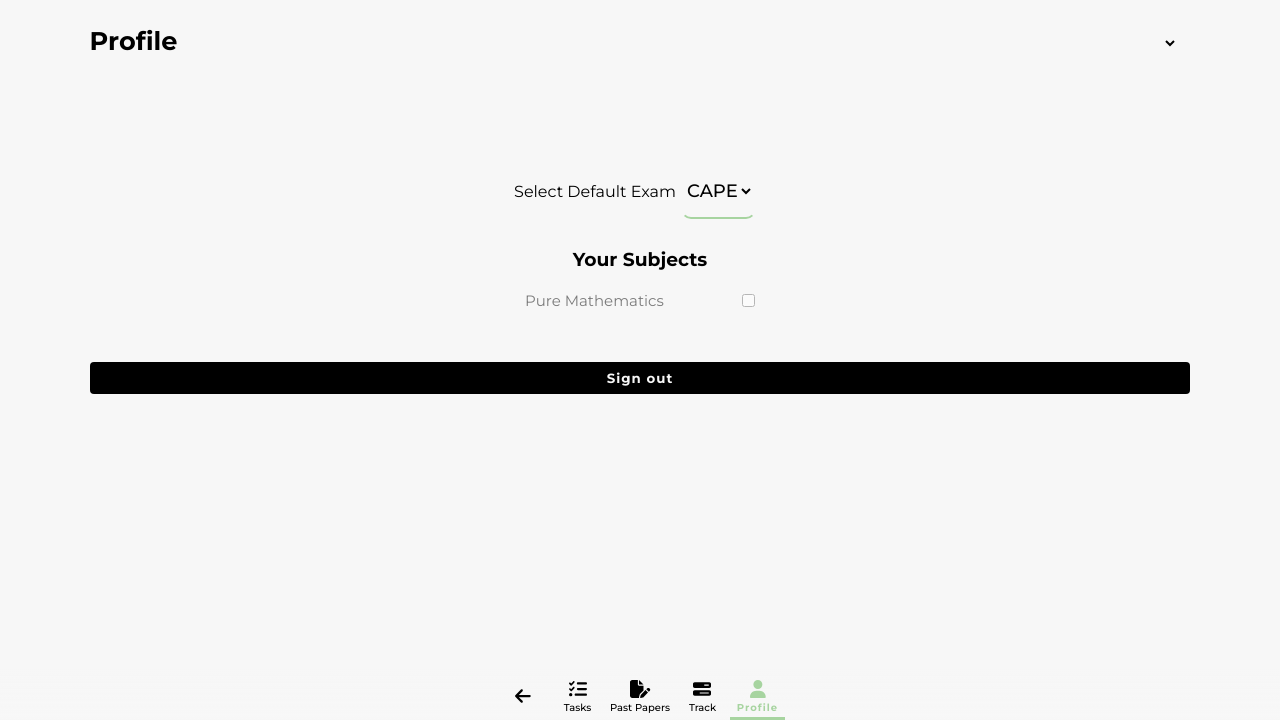
Profile (7, 9, 10) › CAPE lists the subjects from the data; choosing CSEC with none says "CSEC subjects coming soon"
The width and height of the screenshot is (1280, 720).
Expected: the text "Pure Mathematics" is shown, 525,291 -> 755,310
Select "CSEC" in the dropdown named "Default exam" at (718, 191), box 681,163 -> 756,219
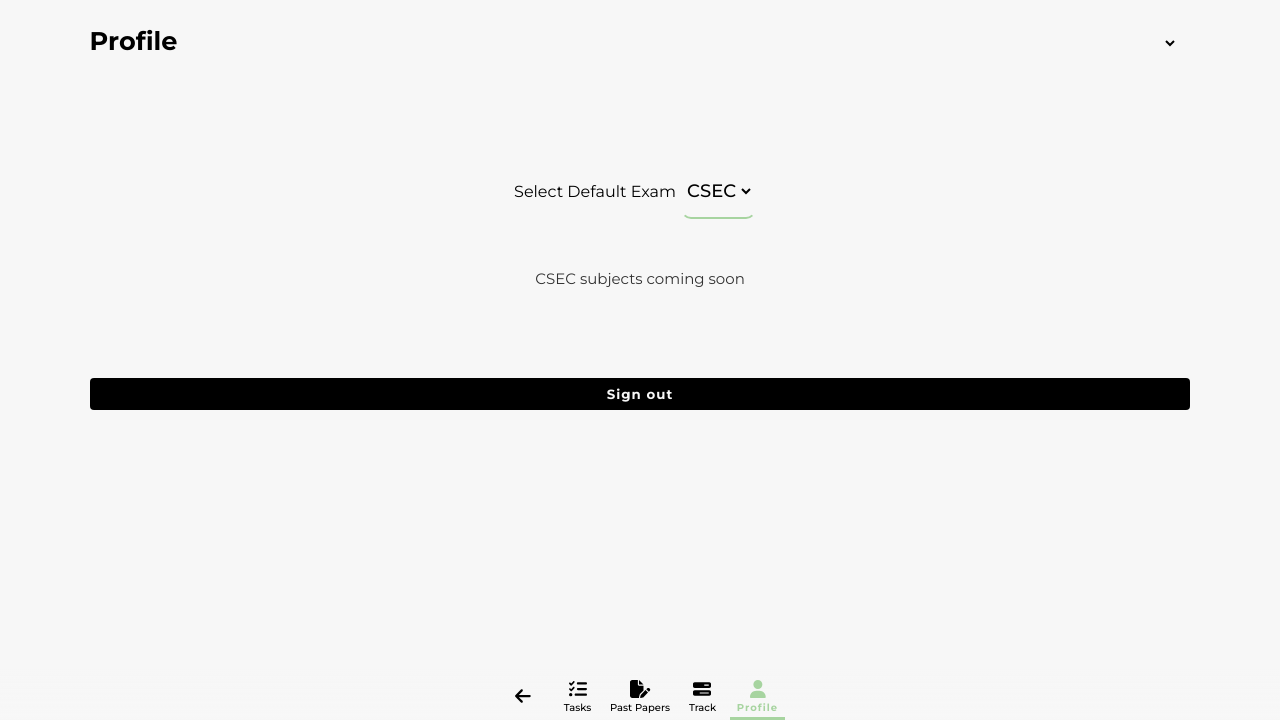
Now the text "CSEC subjects coming soon" is shown, box 535,269 -> 745,288
Now the text "Pure Mathematics" is gone
